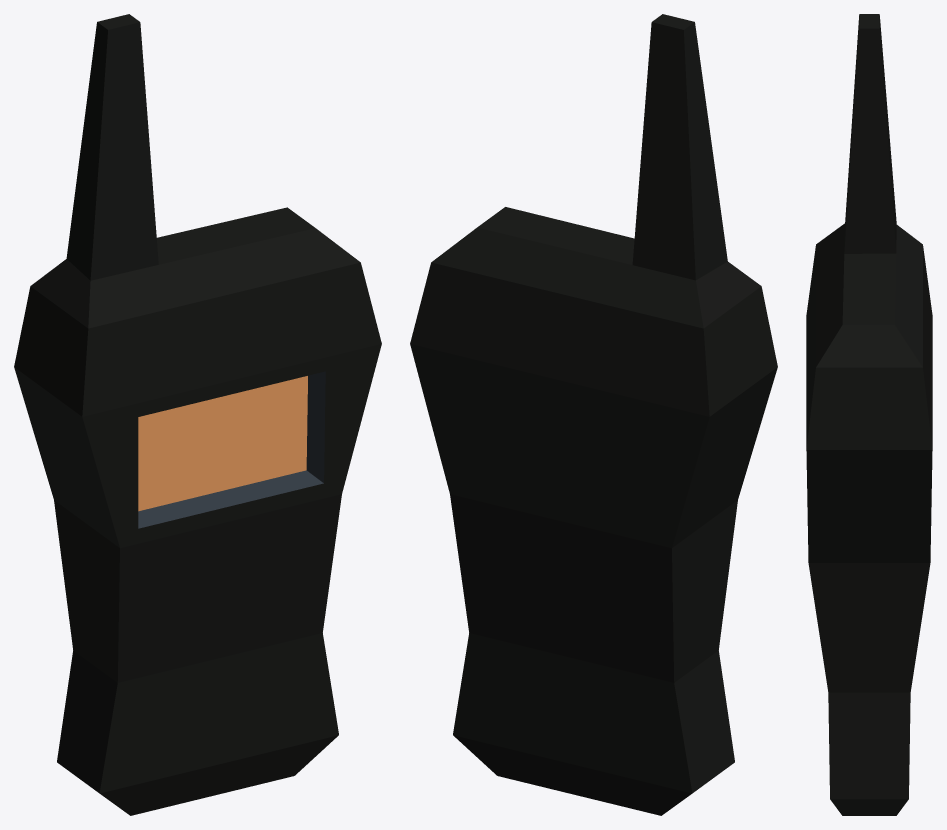
Rendered from Two_Way_Radio.fbx.
The picture shows the model from 3 angles, left to right: view 1: azimuth 30°, elevation 25°; view 2: azimuth 150°, elevation 25°; view 3: azimuth 270°, elevation 25°; orthographic projection. The views are drawn at different scales.
Parts seen in each view (by area): view 1: Two_Way_Radio; view 2: Two_Way_Radio; view 3: Two_Way_Radio.
Part boxes in pixels (x1=…): Two_Way_Radio: x1=14, y1=14, x2=381, y2=815; Two_Way_Radio: x1=410, y1=14, x2=777, y2=815; Two_Way_Radio: x1=806, y1=14, x2=932, y2=815.
Bounding box in the file's own units: 10.28 × 25.67 × 4.06.
